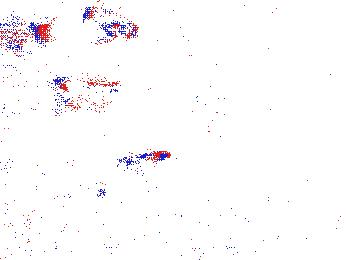X-ray fish: (239, 226, 290, 256), (128, 162, 182, 186)
red belly glassfish: (119, 148, 167, 165)
redtail glassfish: (78, 9, 144, 43), (1, 14, 49, 50)
